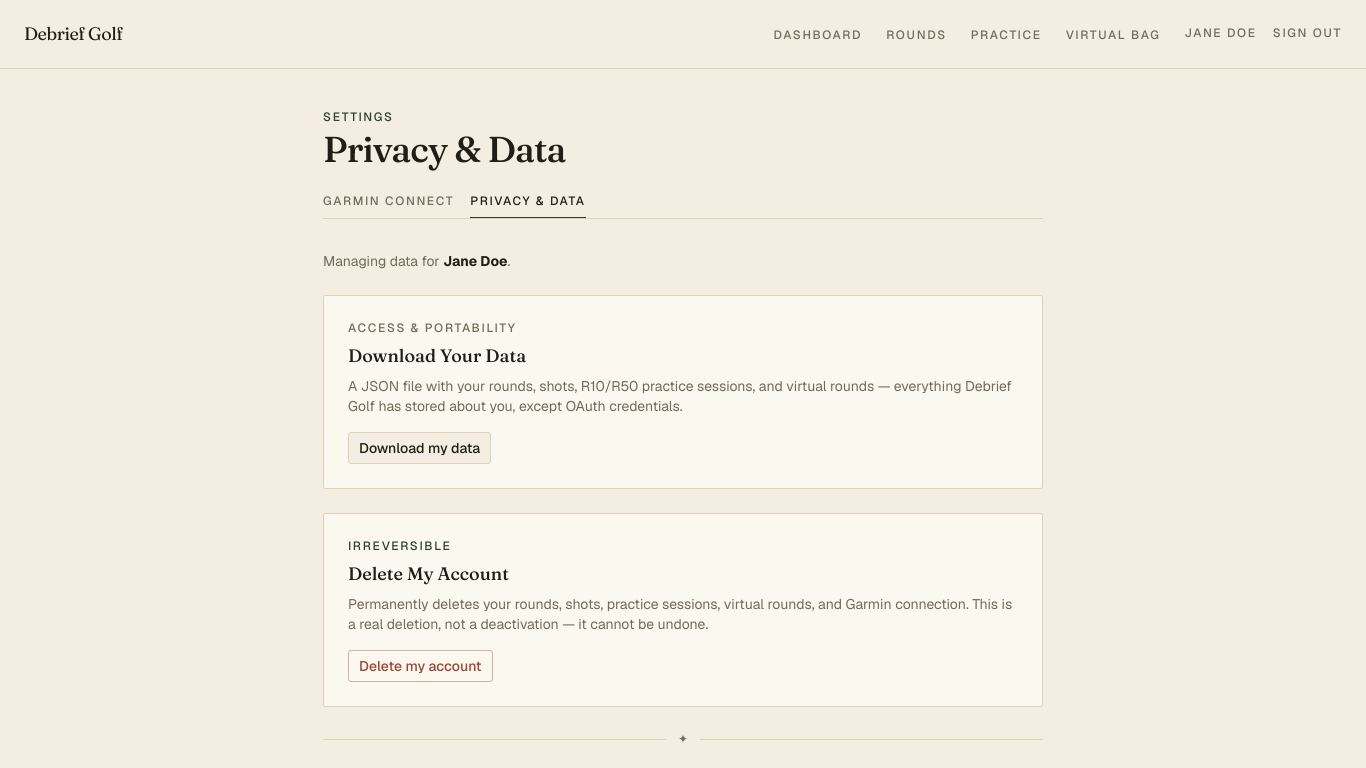
Test: PrivacySettingsPage › requires typing DELETE before the destructive delete button is enabled
Click the button "Delete my account".
click(420, 666)  # box [348, 650, 493, 682]
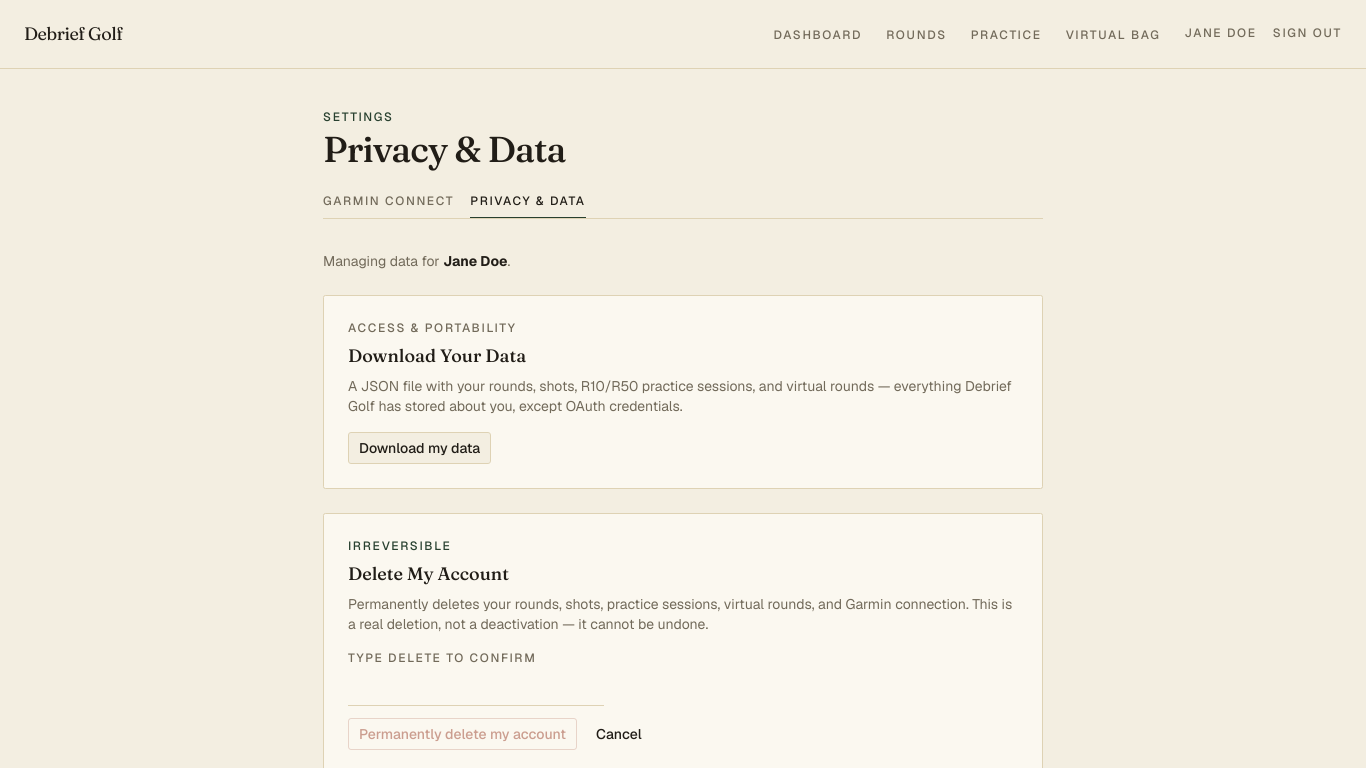
Expected: the button "Permanently delete my account" is disabled, [348, 718, 577, 750]
Type "DELETE" into the field labelled "Type DELETE to confirm".
click(476, 688); type("DELETE")  # box [348, 670, 604, 706]
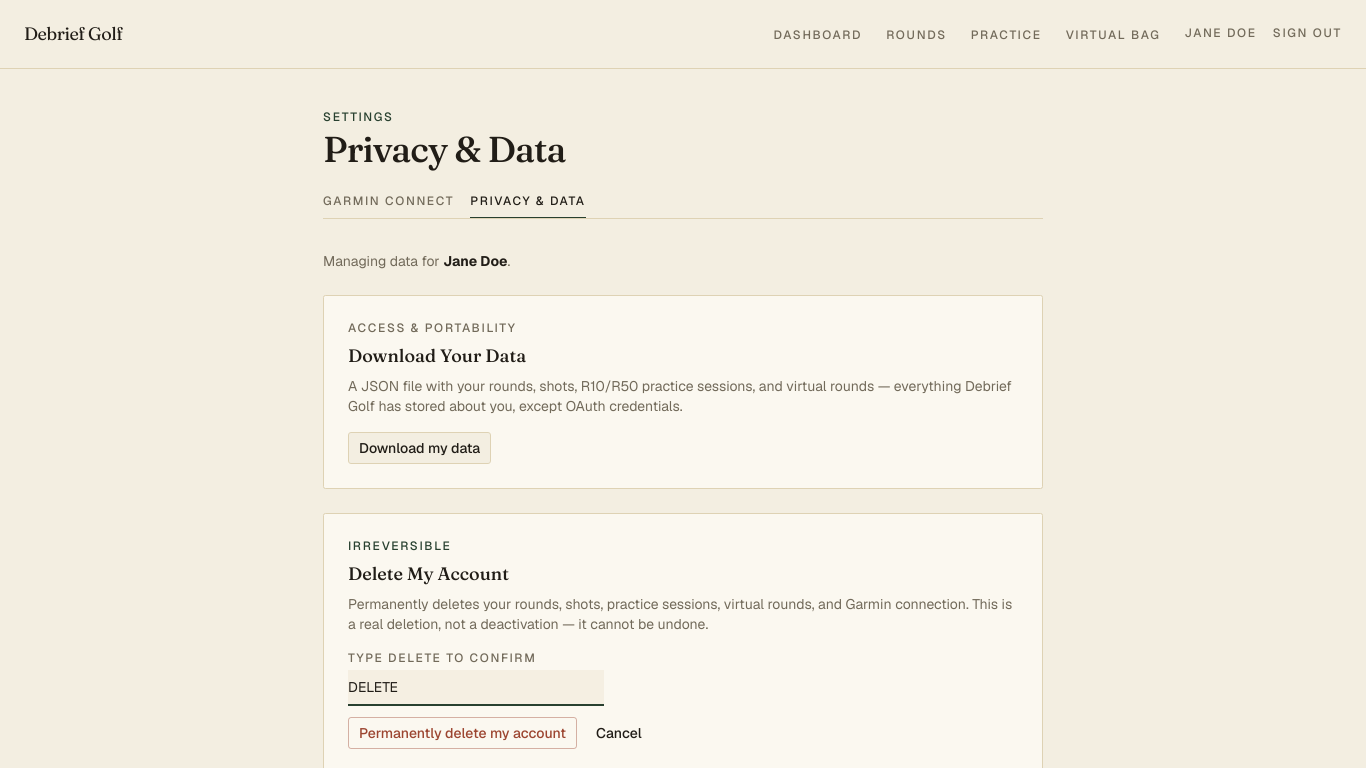
Expected: the button "Permanently delete my account" is enabled, [348, 717, 577, 749]
